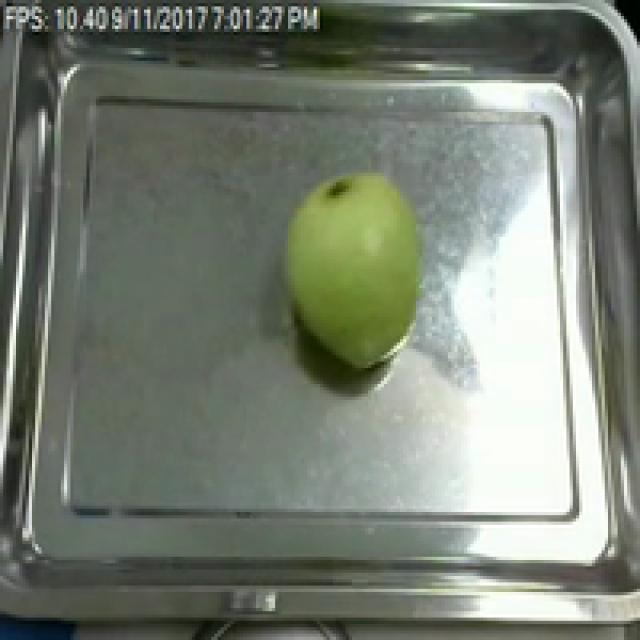Fruit: (272, 160, 432, 374)
